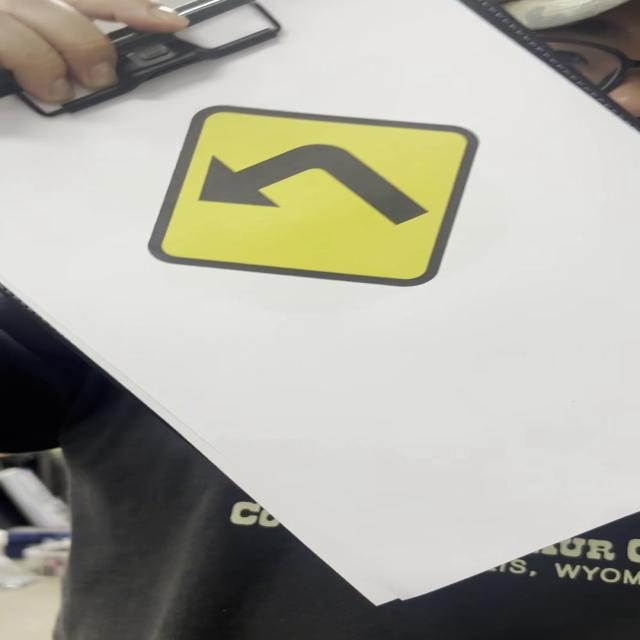left: (146, 106, 478, 287)
